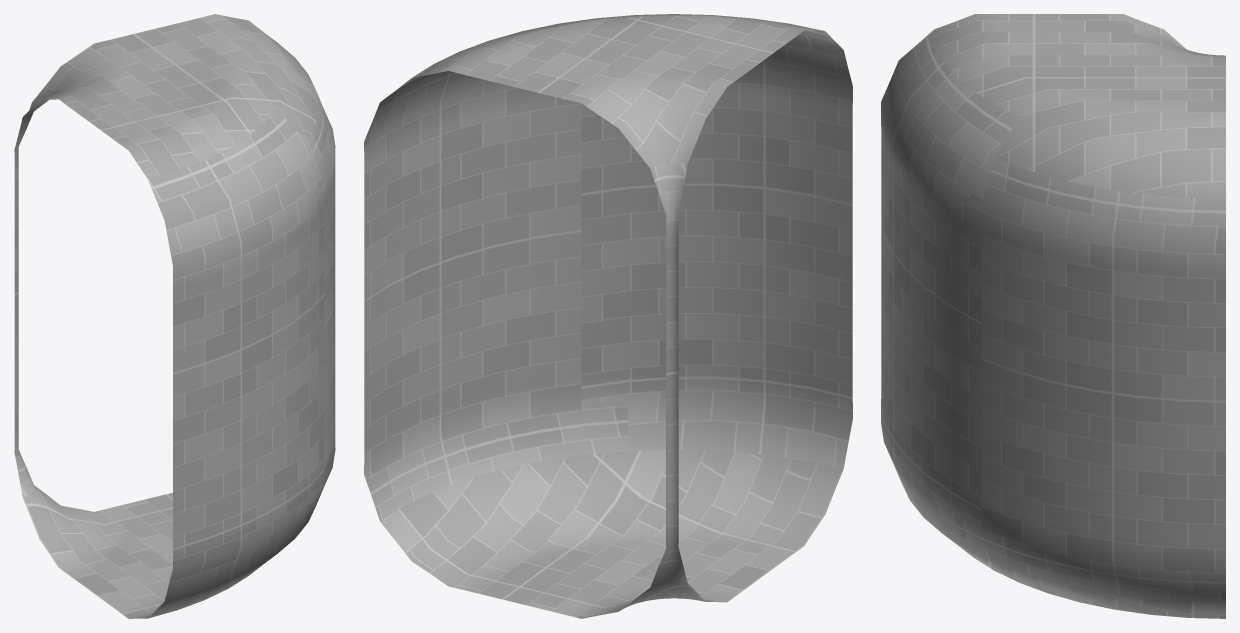
The model's file is proto_tunnel_curve_01.fbx.
3 views of the same model, side by side, from view 1: azimuth 30°, elevation 25°; view 2: azimuth 150°, elevation 25°; view 3: azimuth 270°, elevation 25° (orthographic). The views are drawn at different scales.
Visible parts, largest first — view 1: proto_tunnel_curve_01; view 2: proto_tunnel_curve_01; view 3: proto_tunnel_curve_01.
Boxes of the visible parts, x1,y1,x2,y2 form: proto_tunnel_curve_01: (14,14,335,618); proto_tunnel_curve_01: (364,14,852,618); proto_tunnel_curve_01: (881,14,1225,618).
Bounding box in the file's own units: 195 × 310 × 195.
